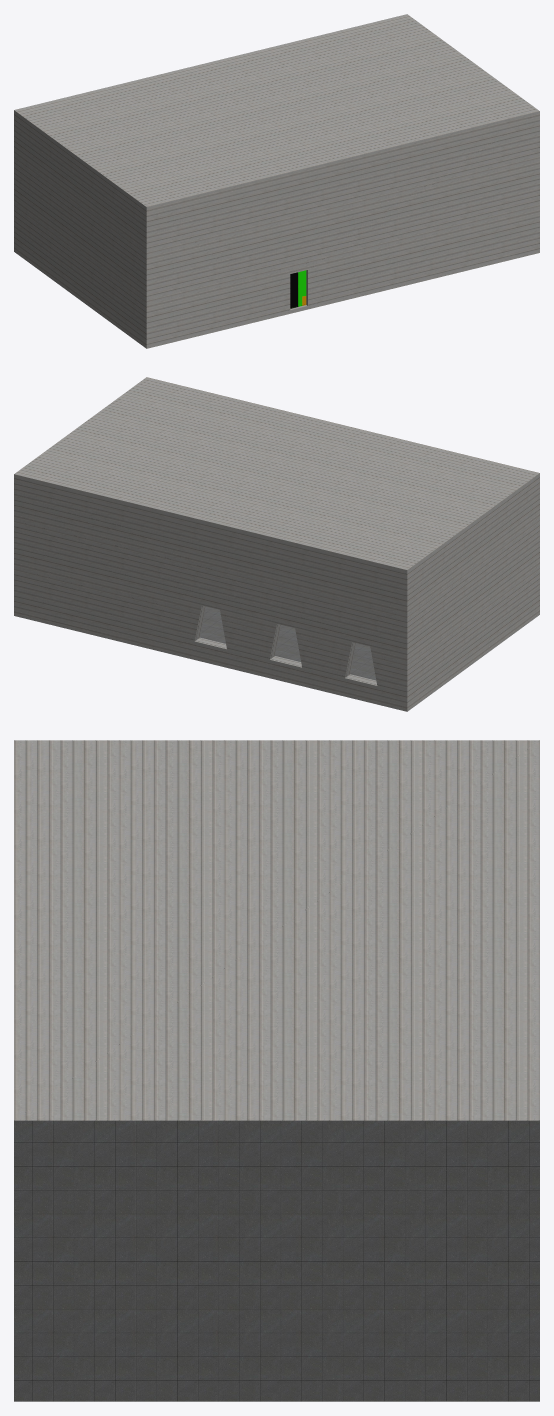
The model's file is Structure.fbx.
The picture shows the model from 3 angles, top to bottom: view 1: azimuth 30°, elevation 25°; view 2: azimuth 150°, elevation 25°; view 3: azimuth 270°, elevation 25°; orthographic projection. The views are drawn at different scales.
Parts seen in each view (by area): view 1: Structure; view 2: Structure; view 3: Structure.
Part boxes in pixels (x1=…): Structure: x1=14, y1=14, x2=539, y2=348; Structure: x1=14, y1=377, x2=539, y2=711; Structure: x1=14, y1=740, x2=539, y2=1401.
Size of the model in its own units: 2729 by 939 by 1594.
